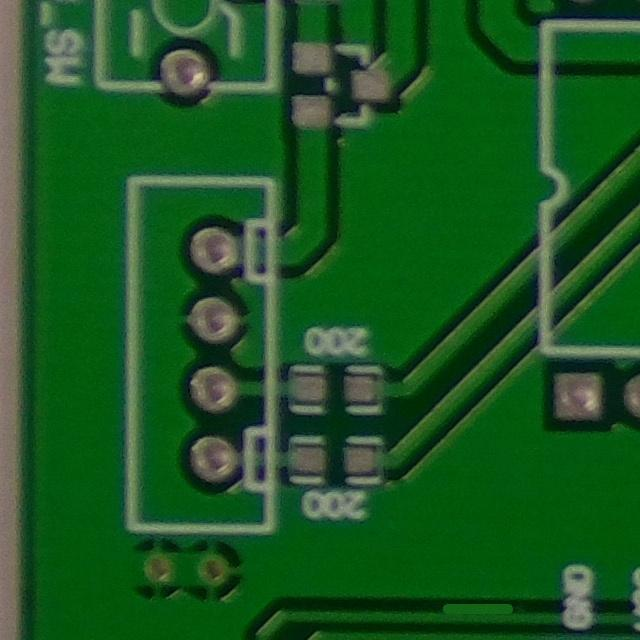spur: (427, 582, 530, 630)
